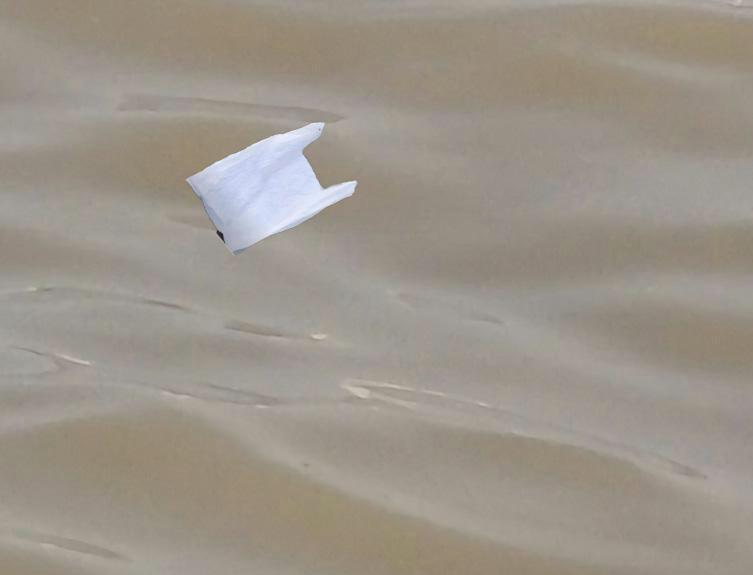Trash: (183, 116, 361, 259)
